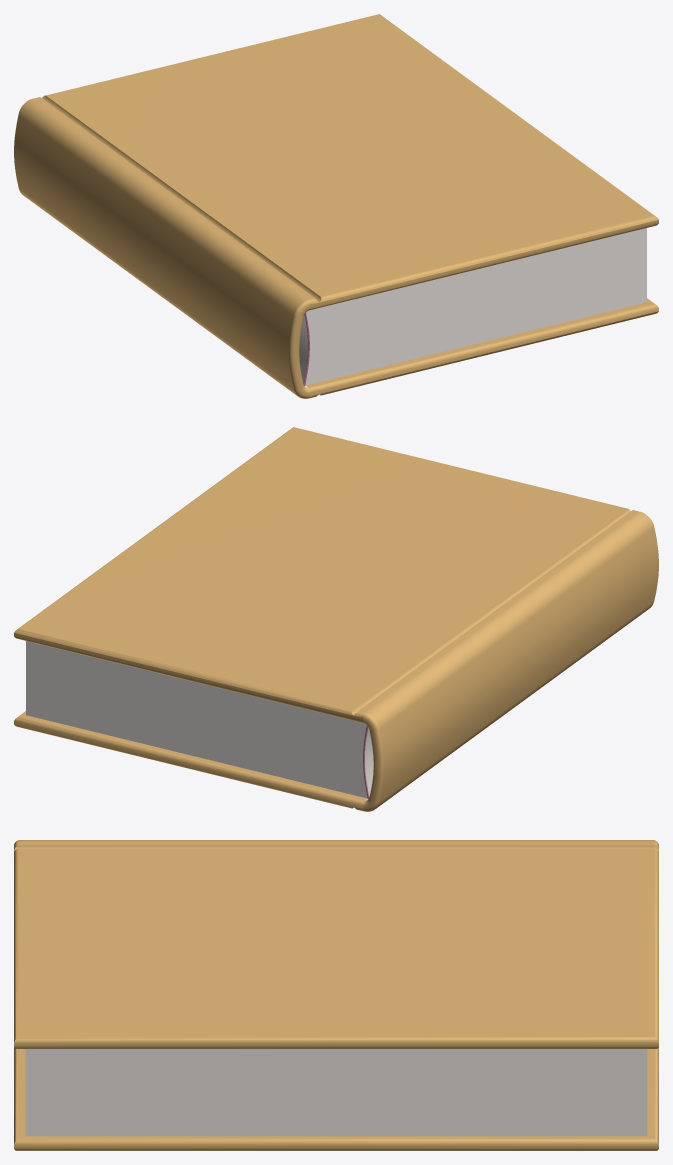
Rendered from book_red.glb.
3 views of the same model, one above another, from view 1: azimuth 30°, elevation 25°; view 2: azimuth 150°, elevation 25°; view 3: azimuth 270°, elevation 25° (orthographic). The views are drawn at different scales.
Visible parts, largest first — view 1: Geode; view 2: Geode; view 3: Geode.
Part boxes in pixels (bbox=[...]): Geode: bbox=[14, 14, 658, 398]; Geode: bbox=[14, 427, 658, 811]; Geode: bbox=[14, 840, 658, 1150].
Size of the model in its own units: 0.1668 by 0.0428 by 0.2188.
Materials: 1 (1 with a texture image).
